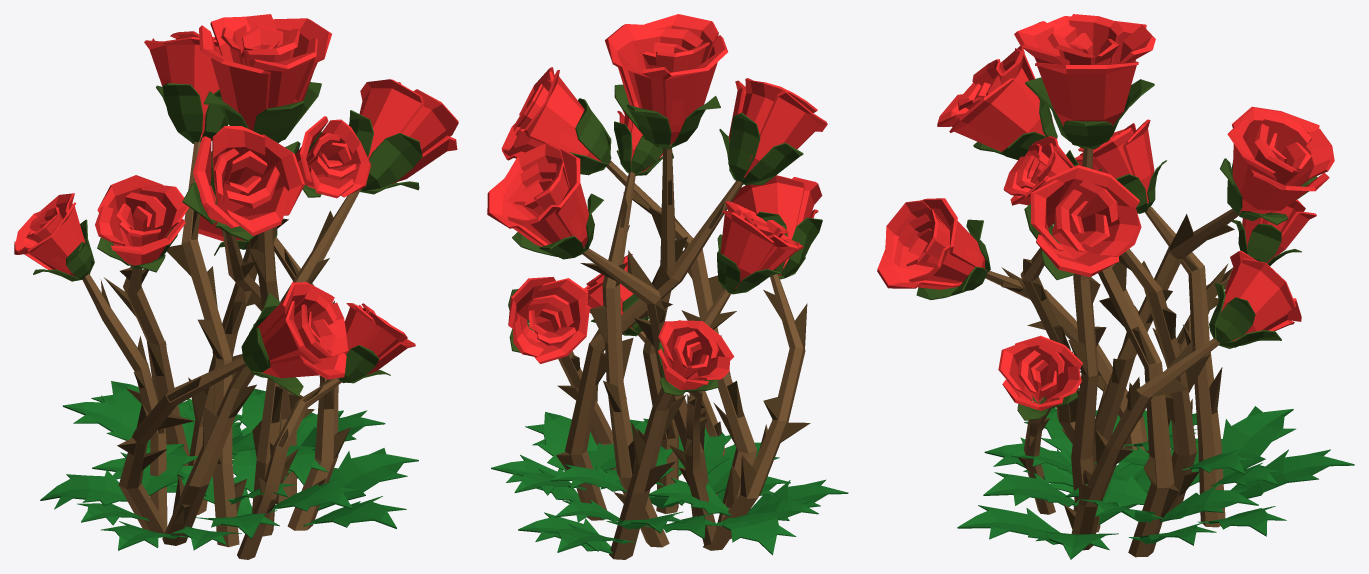
File: Rose_3.fbx
The picture shows the model from 3 angles, left to right: view 1: azimuth 30°, elevation 25°; view 2: azimuth 150°, elevation 25°; view 3: azimuth 270°, elevation 25°; orthographic projection. The views are drawn at different scales.
Parts seen in each view (by area): view 1: Rose_2; view 2: Rose_2; view 3: Rose_2.
Boxes of the visible parts, box(x1,y1,x2,y2) form: Rose_2: box(14, 14, 458, 559); Rose_2: box(487, 14, 848, 559); Rose_2: box(877, 14, 1354, 559).
Size of the model in its own units: 92.67 by 126 by 109.
